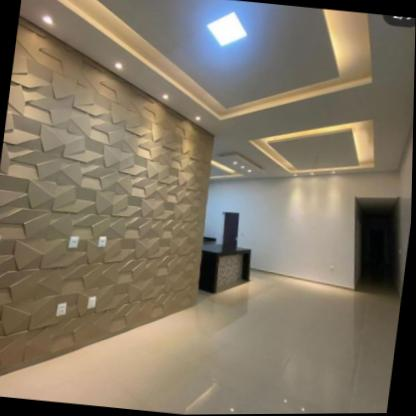Futech tiles: (7, 79, 204, 301)
